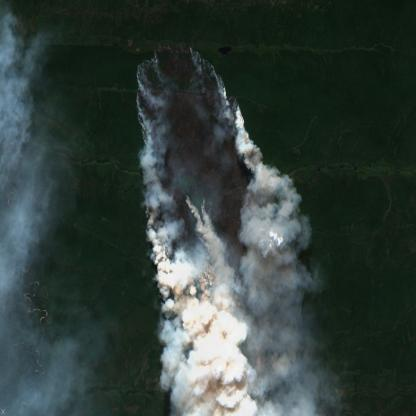fire: (130, 41, 288, 338)
